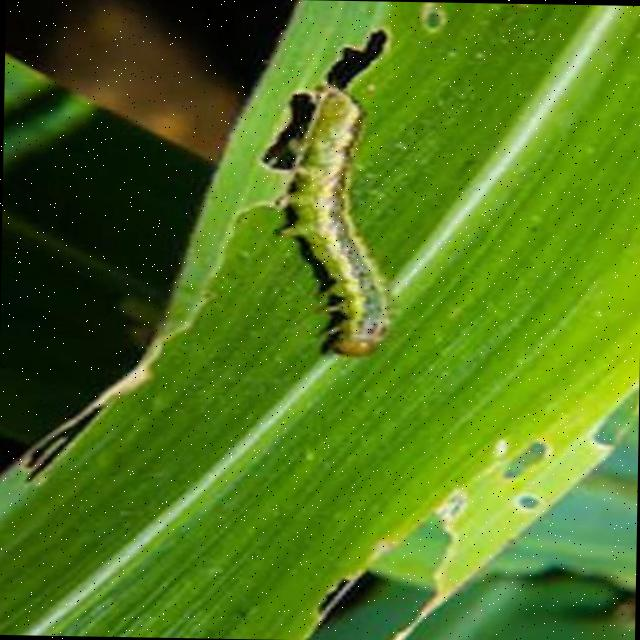worm: (231, 76, 398, 359)
